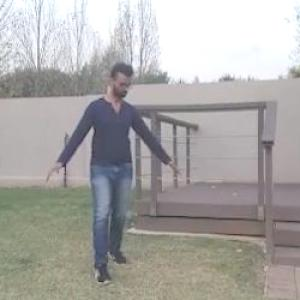land: (59, 59, 169, 289)
